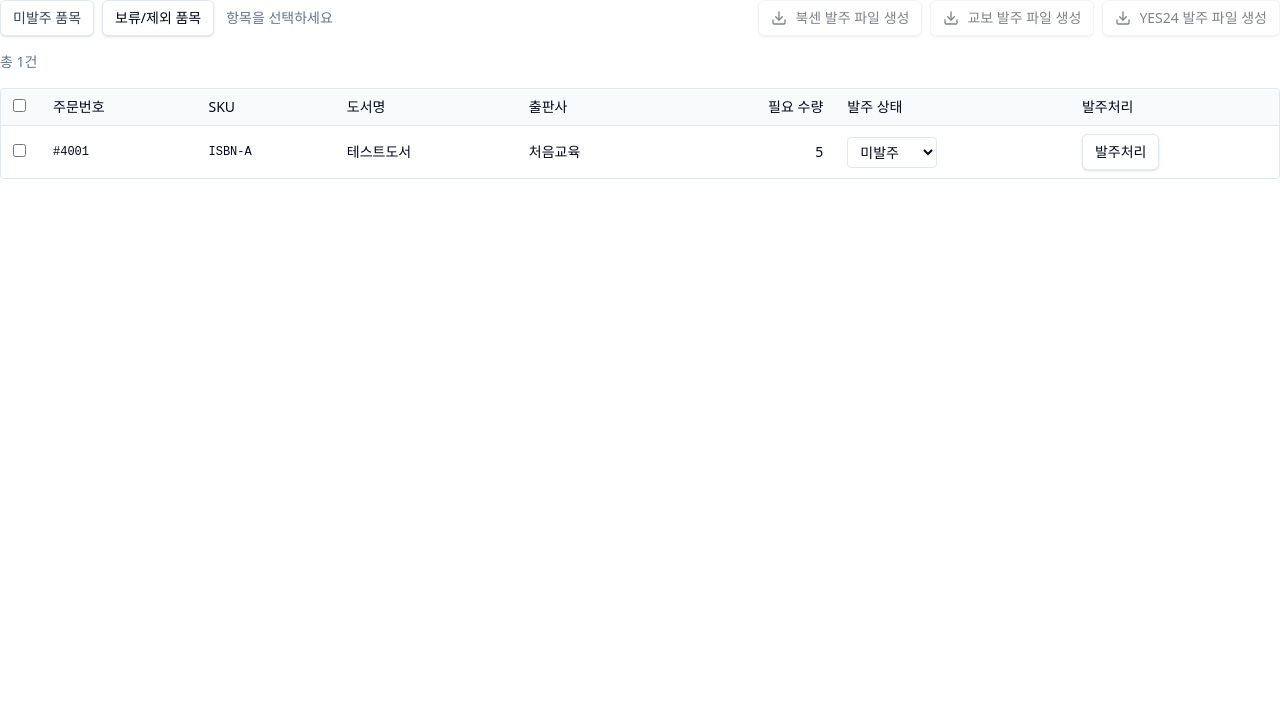
it: UnorderedItemsTab — 발주처리 모달 (SPEC-ORDER-025) › AC-LCONF-105: on failure the modal stays open and shows the server error message
Click the button "발주처리" at (1121, 152), box [1082,134,1160,170]
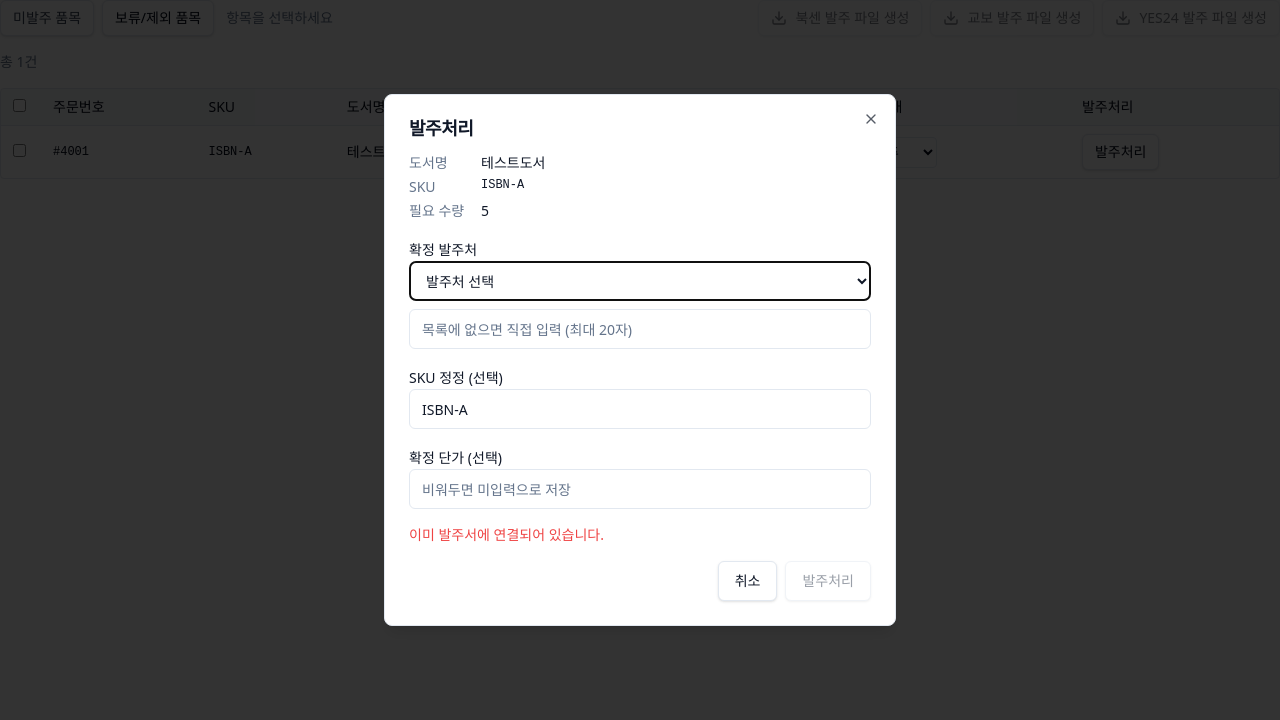
Expected: the dialog is shown, [384,94,896,626]
Expected: the text "이미 발주서에 연결되어 있습니다." is shown, [409,525,604,544]
